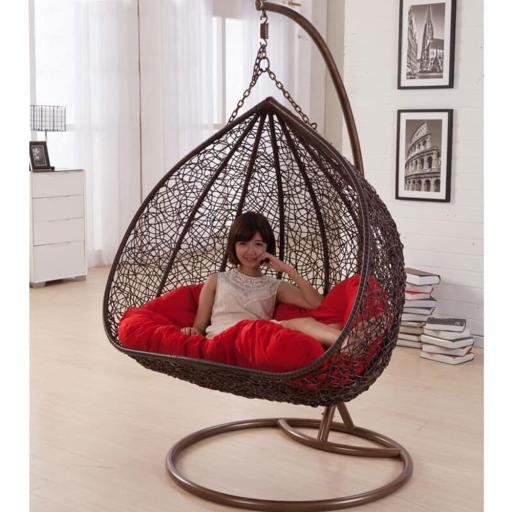chair: (102, 0, 414, 512)
wall: (322, 0, 484, 349)
